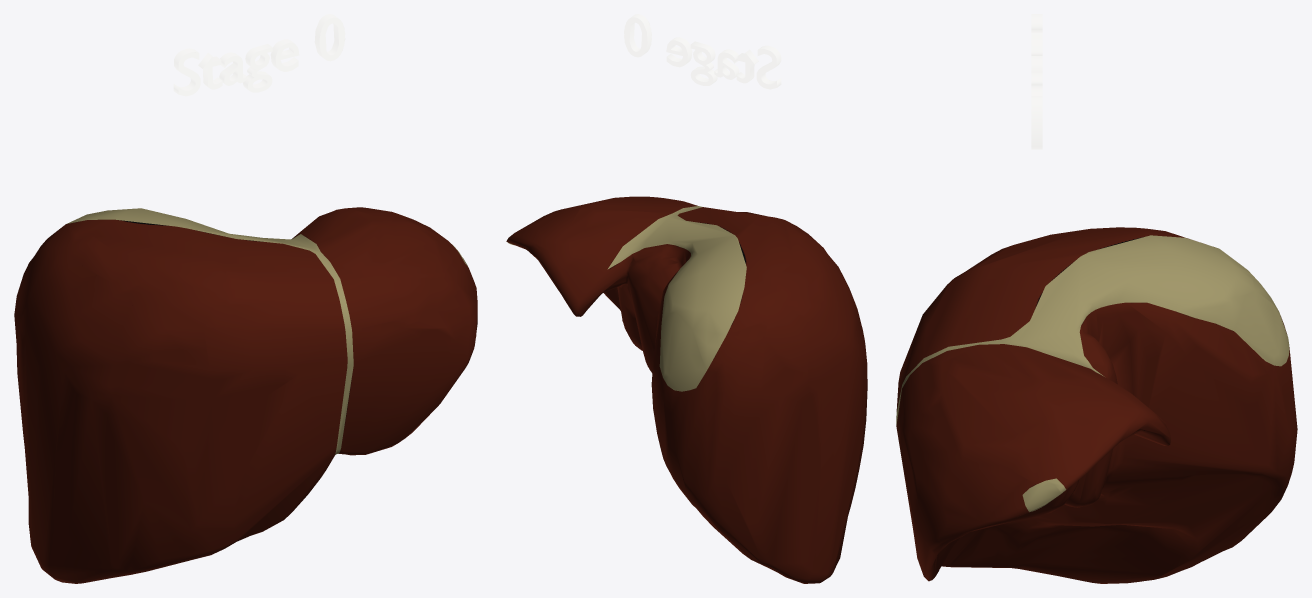
Rendered from LiverH.gltf.
3 renders of one model, left to right at view 1: azimuth 30°, elevation 25°; view 2: azimuth 150°, elevation 25°; view 3: azimuth 270°, elevation 25°, orthographic. The views are drawn at different scales.
Visible parts, largest first — view 1: Liver.006; view 2: Liver.006; view 3: Liver.006.
Part boxes in pixels (<box>): Liver.006: <box>14,14,477,583</box>; Liver.006: <box>506,14,867,583</box>; Liver.006: <box>896,14,1297,583</box>.
Bounding box in the file's own units: 0.4042 × 0.5166 × 0.3011.
3 materials, 1 textured.
